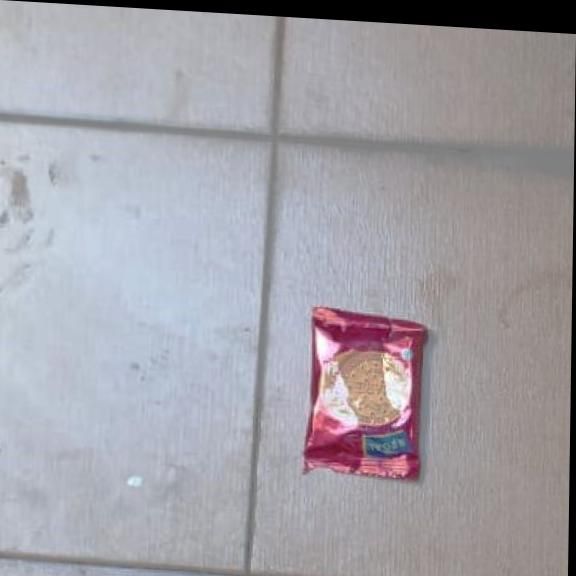Plastik: (296, 305, 428, 481)
